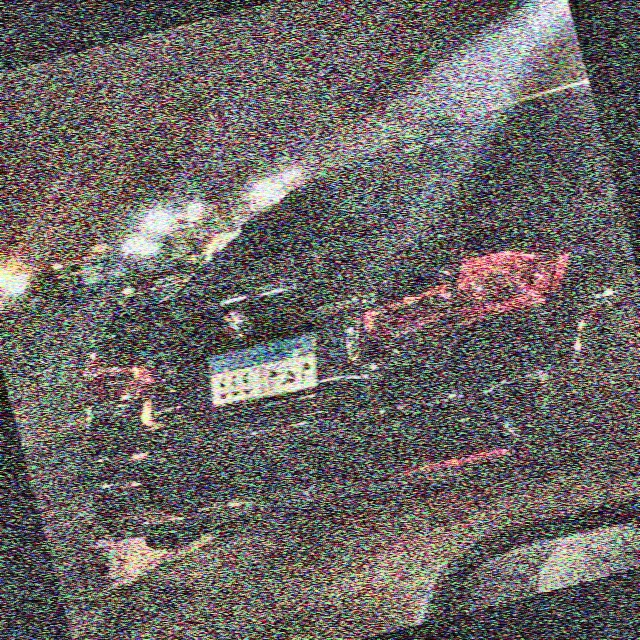License Plate: (196, 326, 329, 416)
